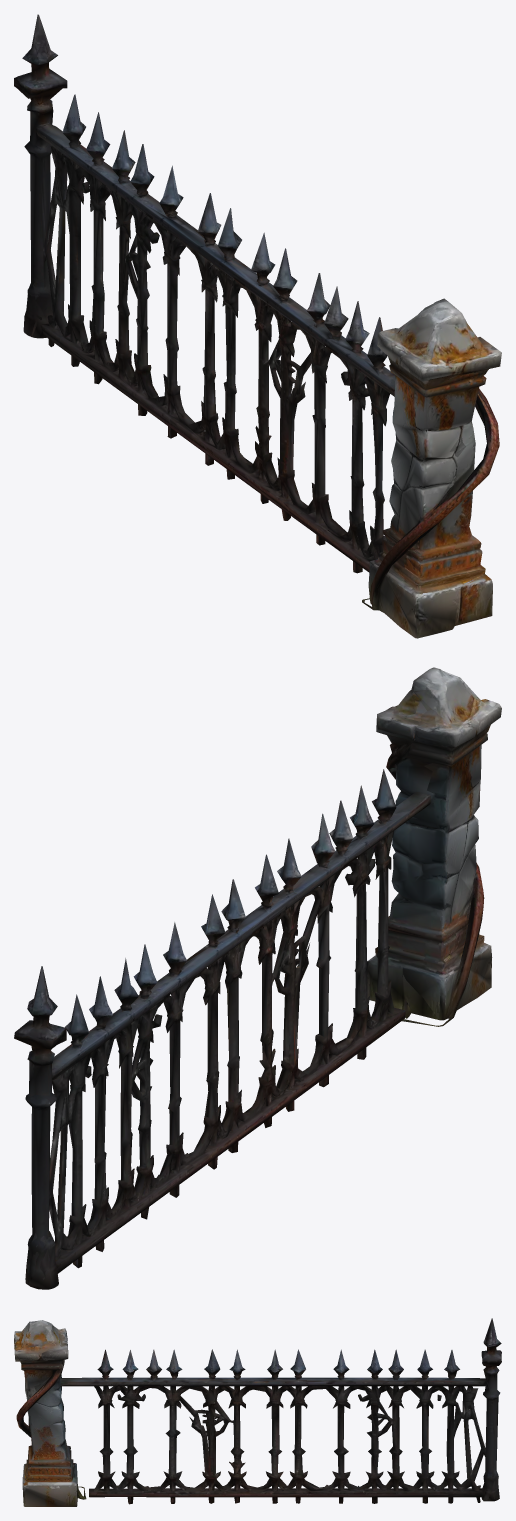
The model's file is OldFence.opt.glb.
3 views of the same model, one above another, from view 1: azimuth 30°, elevation 25°; view 2: azimuth 150°, elevation 25°; view 3: azimuth 270°, elevation 25° (orthographic). The views are drawn at different scales.
Visible parts, largest first — view 1: node_0; view 2: node_0; view 3: node_0.
Part boxes in pixels (x1,y1,x2,y2): node_0: (14, 14, 501, 638); node_0: (14, 667, 501, 1289); node_0: (14, 1318, 501, 1506).
Bounding box in the file's own units: 0.1465 × 0.4717 × 1.12.
Materials: 1 (1 with a texture image).
